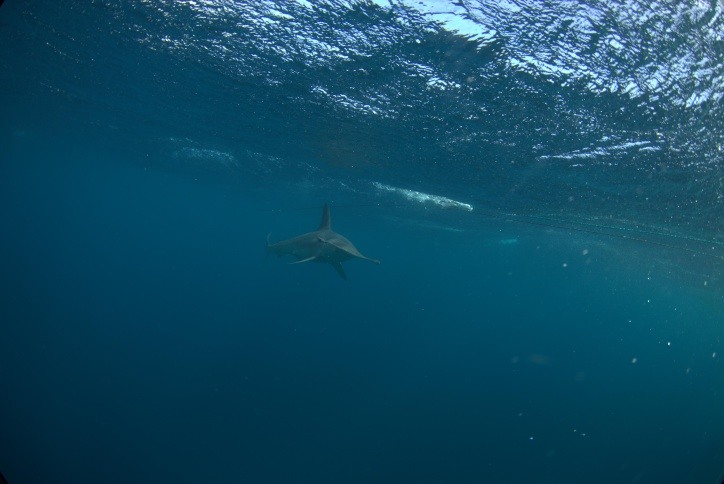Hammer: (238, 200, 393, 302)
